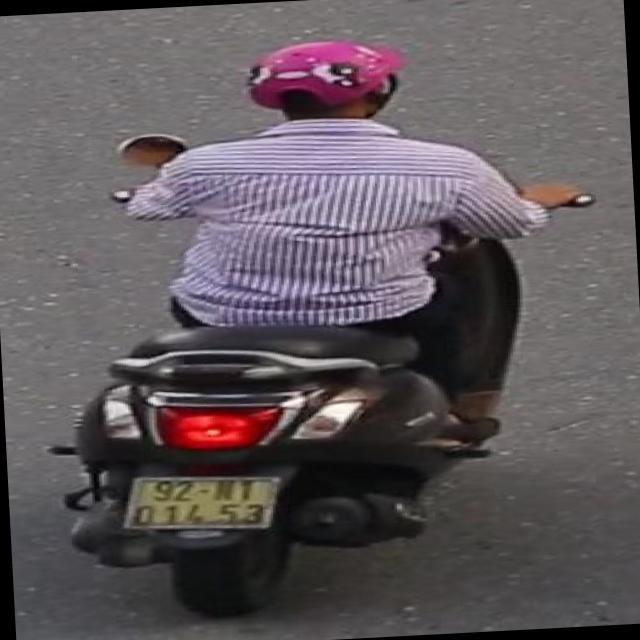LP: (231, 24, 418, 156)
helmet: (113, 467, 291, 539)
